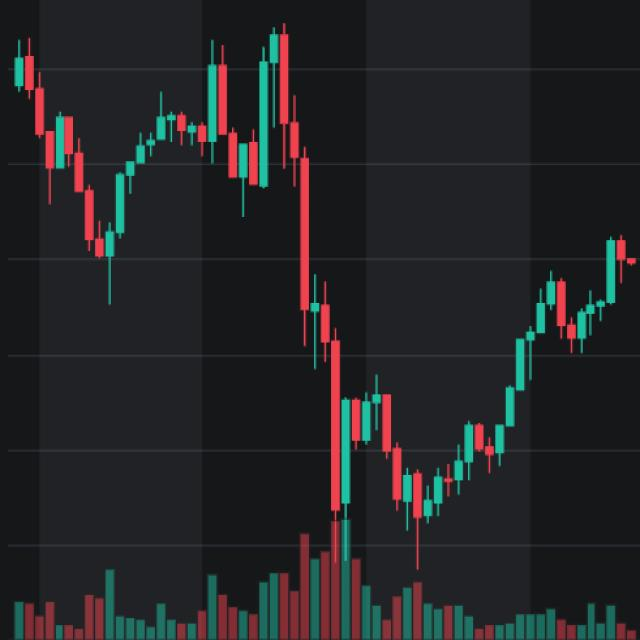Ascending-Triangle: (7, 39, 501, 324)
Inverse-Head-Shoulders: (302, 218, 566, 558)
